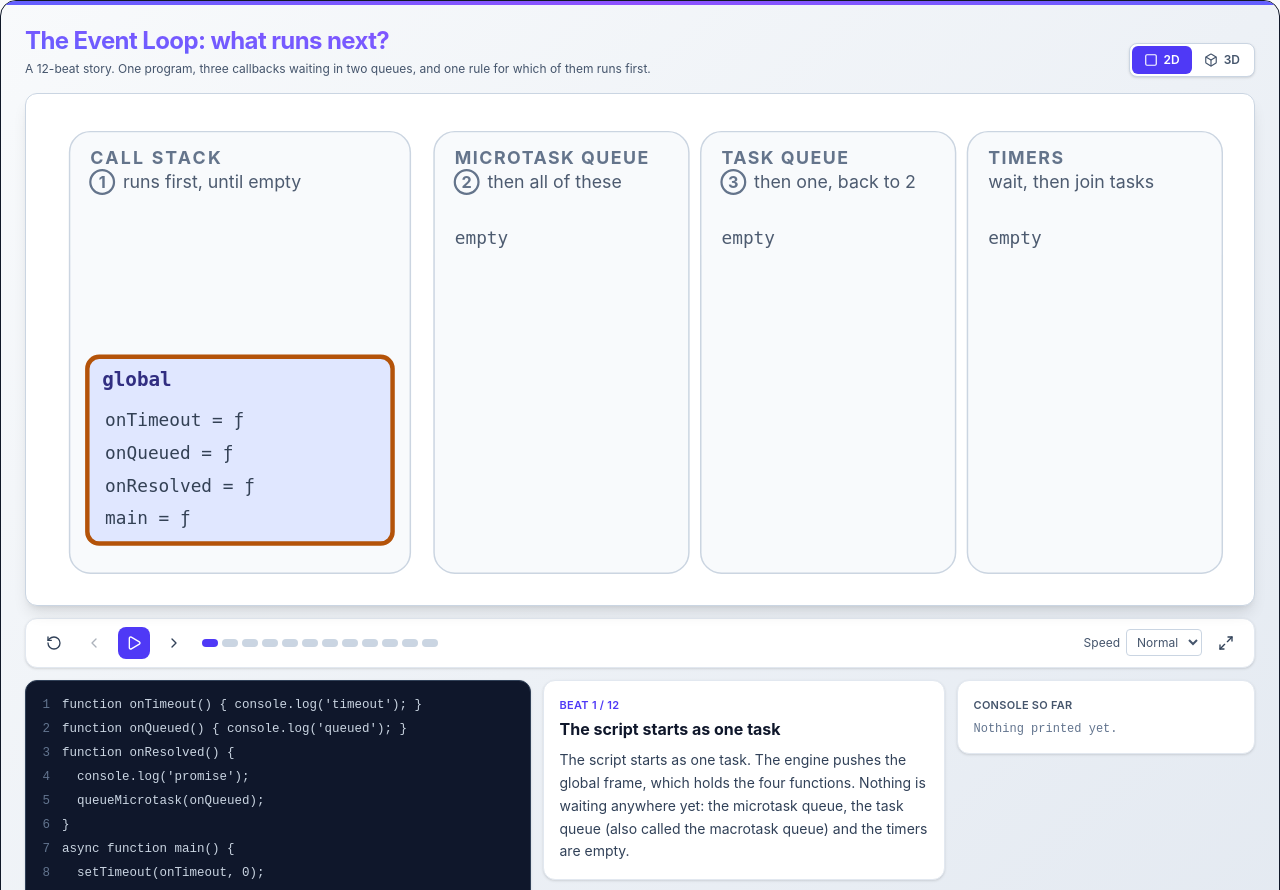
Test: EventLoopStory › starts on beat 1 and steps forward and back
Expected: the text "Beat 1 / 12" is shown, [560,698,619,712]
Expected: the picture named "The script starts as one task" is shown, [34,102,1246,597]
Click the button named "Next beat" at (174,643), box [158,627,190,659]
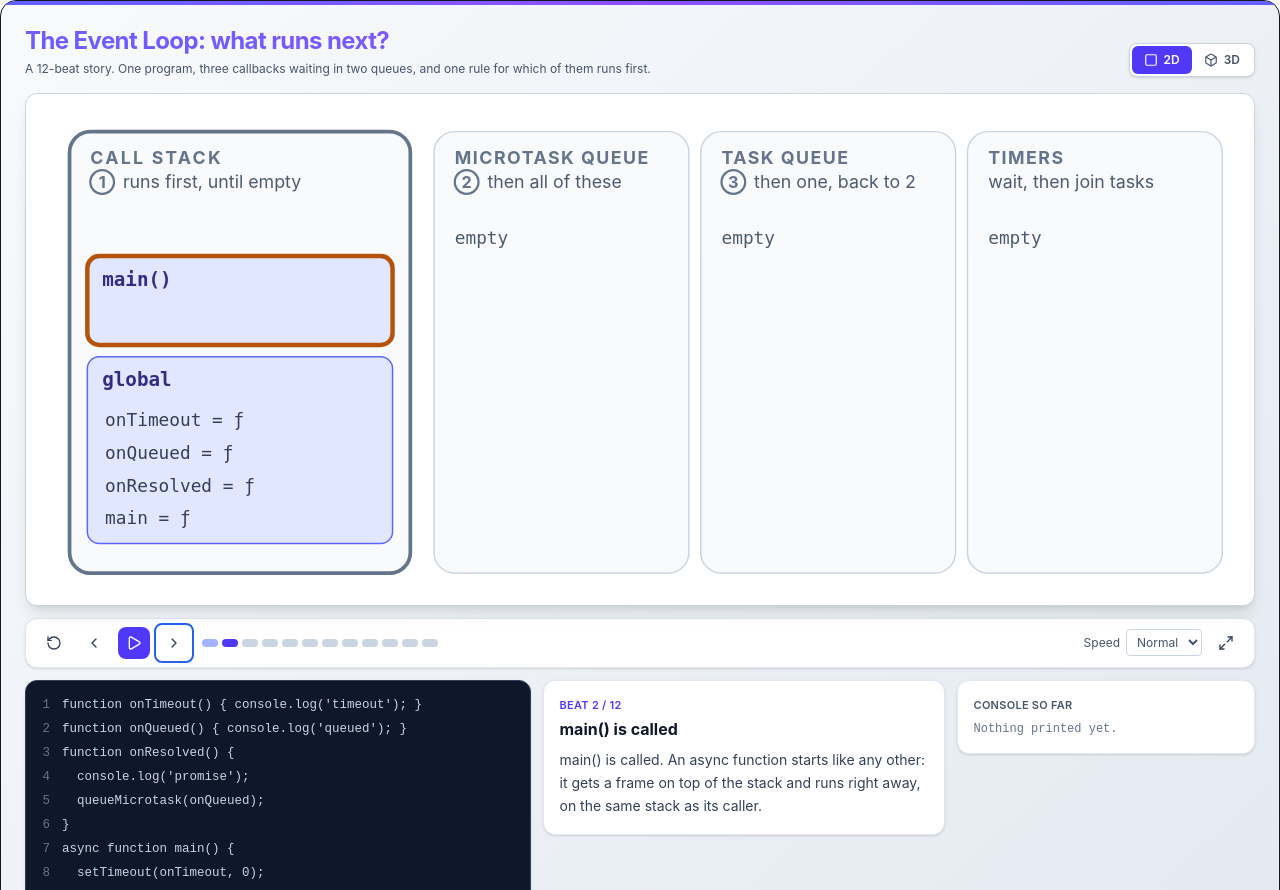
Expected: the text "Beat 2 / 12" is shown, [560,698,622,712]
Expected: the heading "main() is called" is shown, [560,719,678,739]
Click the button named "Previous beat" at (94,643), box [78,627,110,659]
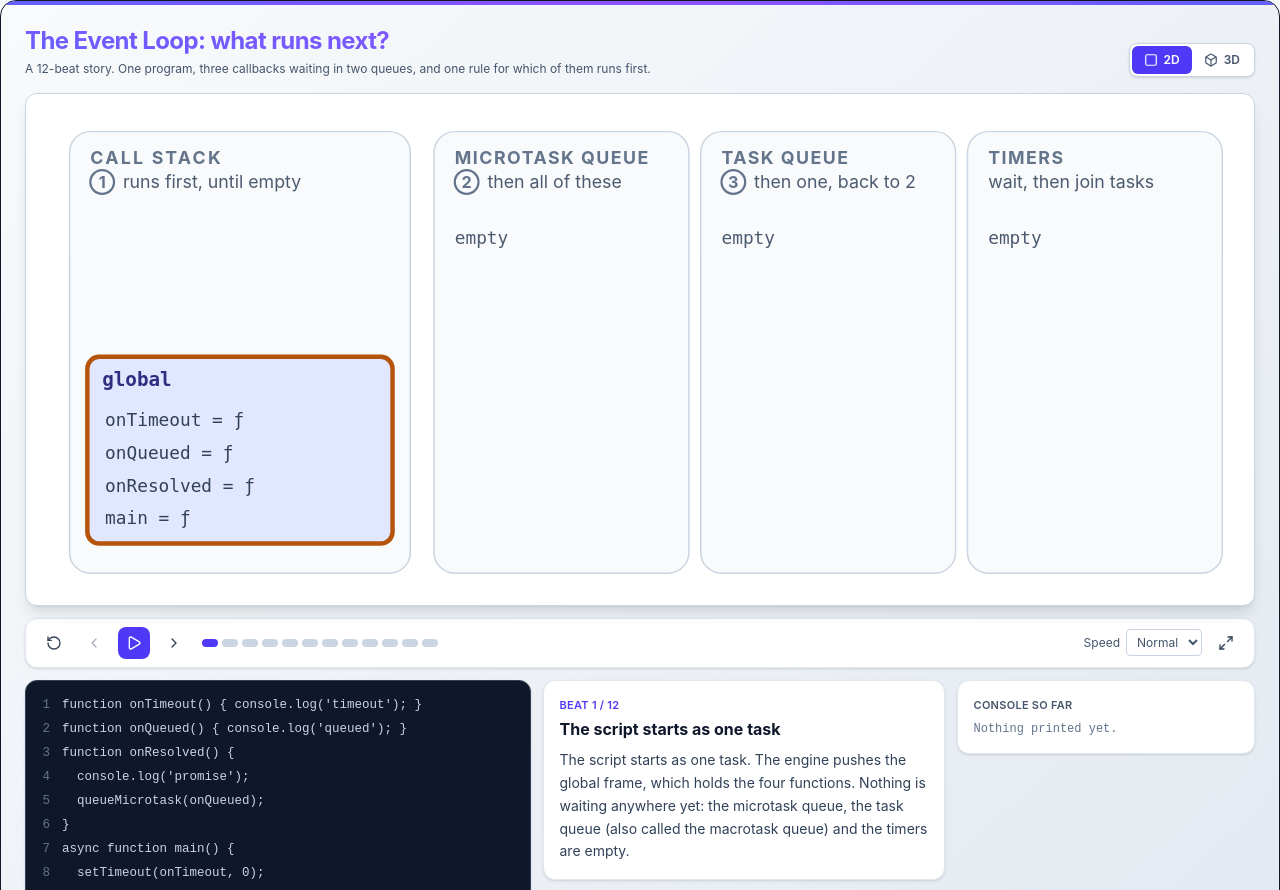
Expected: the text "Beat 1 / 12" is shown, [560,698,619,712]
